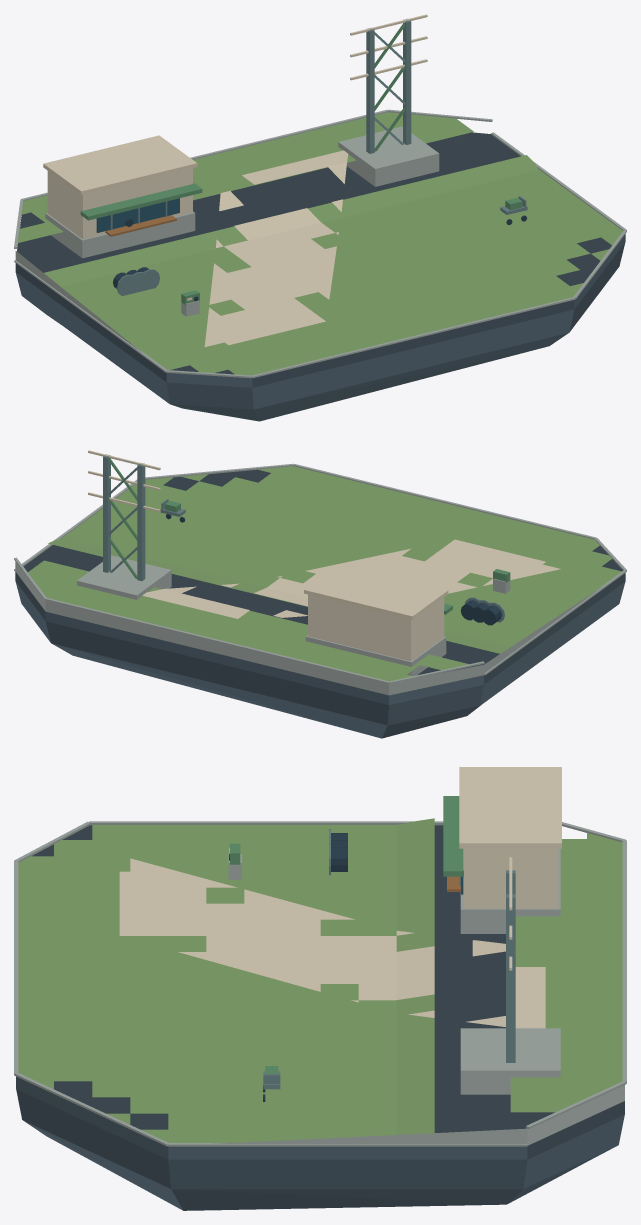
Rendered from fi12-hill-relay.glb.
3 renders of one model, top to bottom at view 1: azimuth 30°, elevation 25°; view 2: azimuth 150°, elevation 25°; view 3: azimuth 270°, elevation 25°, orthographic. The views are drawn at different scales.
Parts seen in each view (by area): view 1: GEO_ground, GEO_foundation, LAND_1_supply, GEO_forecourt, LAND_0_lattice, GEO_rim, LAND_2_reels; view 2: GEO_ground, GEO_foundation, LAND_1_supply, GEO_rim, GEO_forecourt, LAND_0_lattice, LAND_2_reels; view 3: GEO_ground, GEO_foundation, GEO_forecourt, LAND_1_supply, GEO_rim, LAND_0_lattice, LAND_2_reels.
Boxes of the visible parts, x1,y1,x2,y2 form: GEO_ground: [18, 112, 622, 375]; GEO_foundation: [15, 132, 625, 421]; LAND_1_supply: [43, 135, 202, 258]; GEO_forecourt: [204, 150, 348, 346]; LAND_0_lattice: [338, 14, 439, 186]; GEO_rim: [14, 109, 626, 378]; LAND_2_reels: [113, 267, 159, 295]; GEO_ground: [28, 466, 621, 681]; GEO_foundation: [15, 469, 625, 738]; LAND_1_supply: [304, 564, 452, 676]; GEO_rim: [14, 463, 626, 695]; GEO_forecourt: [142, 539, 560, 618]; LAND_0_lattice: [77, 450, 171, 599]; LAND_2_reels: [460, 597, 504, 625]; GEO_ground: [18, 818, 622, 1142]; GEO_foundation: [16, 825, 624, 1210]; GEO_forecourt: [119, 858, 545, 1028]; LAND_1_supply: [443, 767, 561, 933]; GEO_rim: [14, 821, 626, 1146]; LAND_0_lattice: [460, 857, 560, 1094]; LAND_2_reels: [329, 829, 347, 875].
Bounding box in the file's own units: 40.22 × 15.77 × 32.22.
